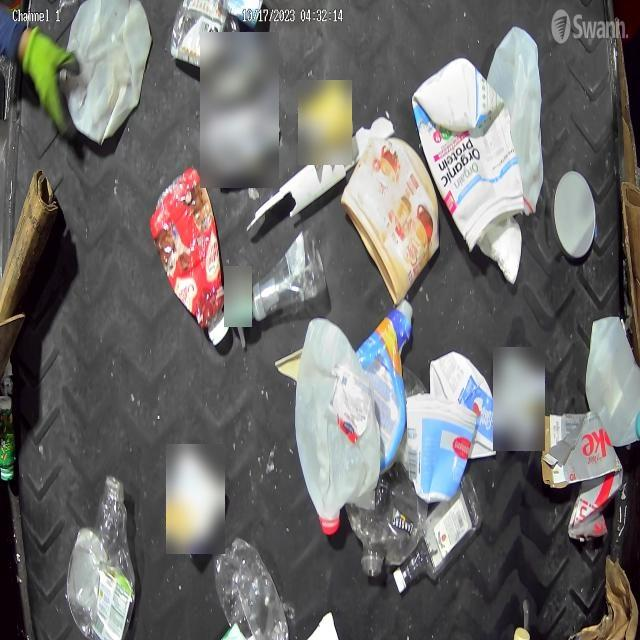milk_jug: (294, 316, 381, 534), (64, 0, 154, 145), (484, 28, 546, 217), (584, 315, 640, 447)
plastic_bottle: (395, 481, 482, 591)
